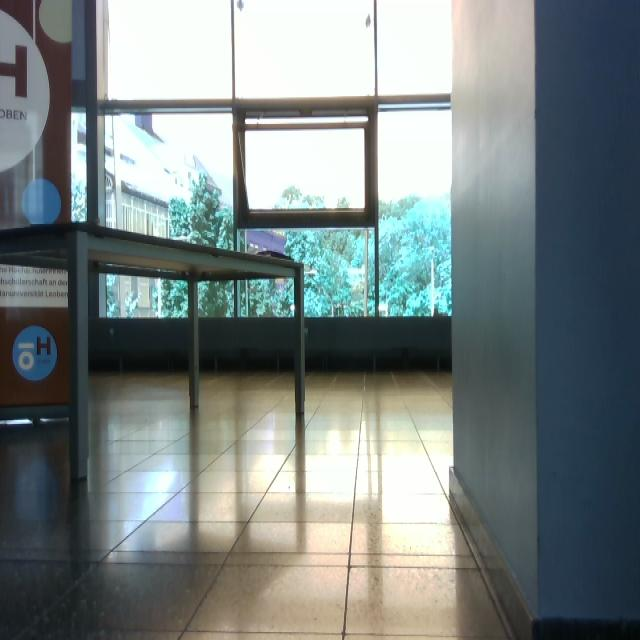door: (2, 1, 639, 638)
light bulb: (21, 179, 62, 227), (304, 268, 317, 277), (236, 1, 245, 12), (290, 304, 296, 312)
pillar: (449, 1, 640, 637)
staircase: (1, 220, 308, 482)
tiled floor: (1, 368, 517, 638)
window: (90, 1, 454, 322)
